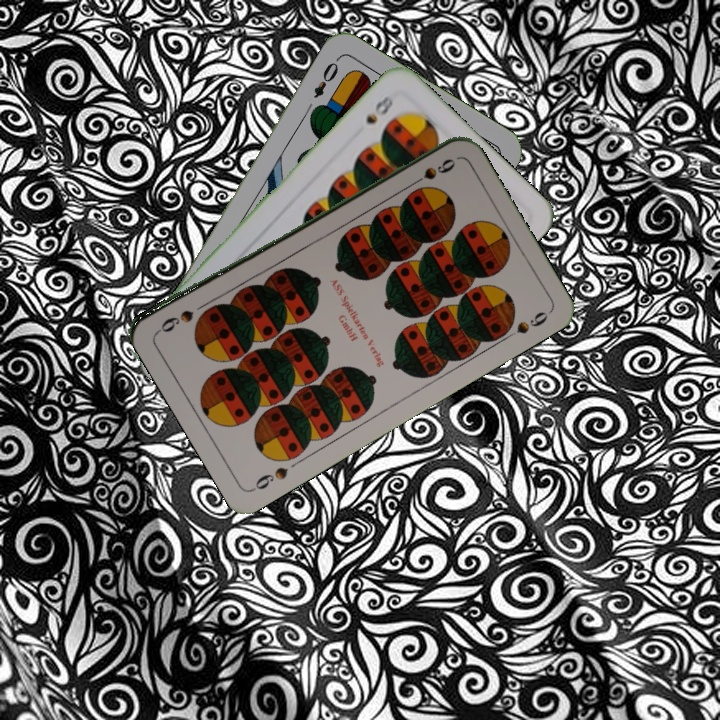EO: (309, 53, 342, 101)
S8: (361, 91, 396, 127)
S9: (404, 154, 457, 190), (248, 463, 291, 494)
